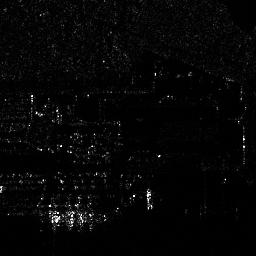ship: (145, 188, 154, 211)
